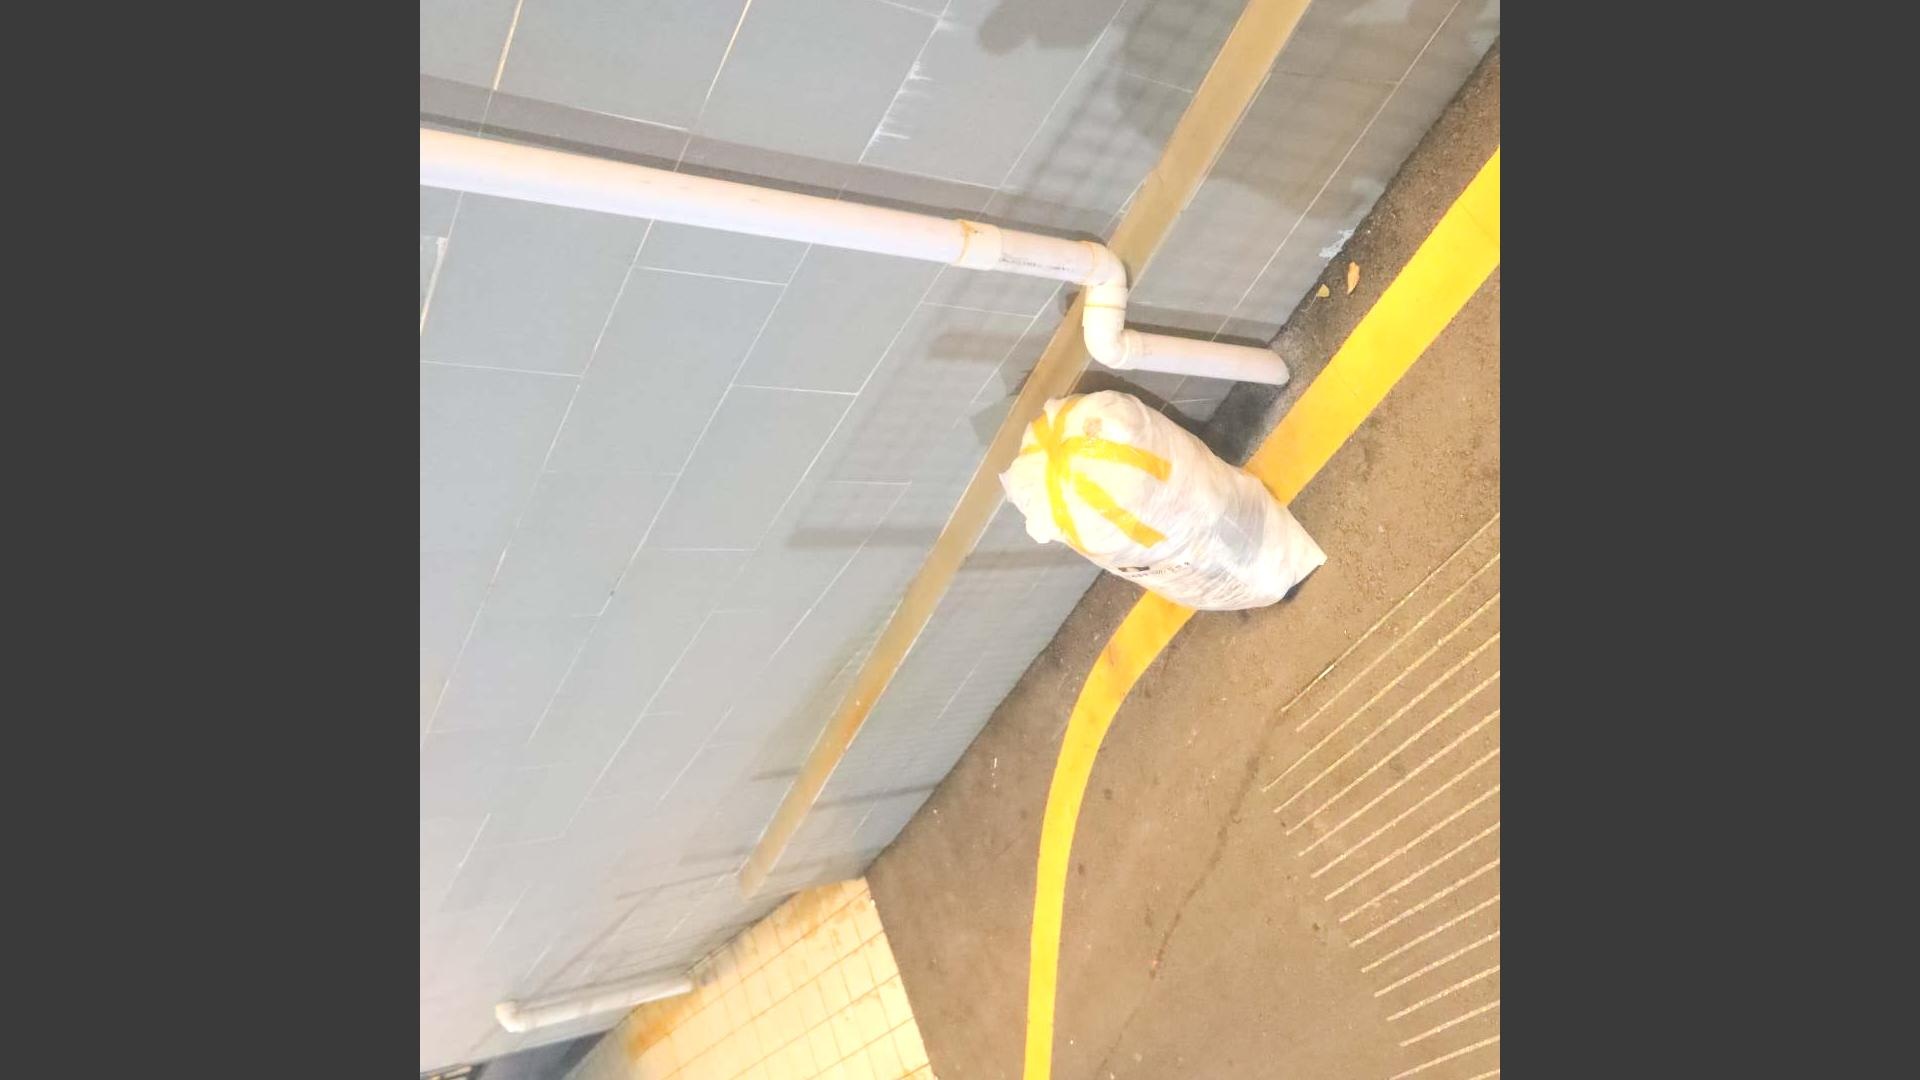white_bag: (984, 380, 1348, 637)
